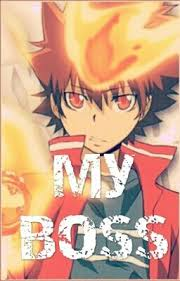Tsuna: (43, 13, 170, 155)
